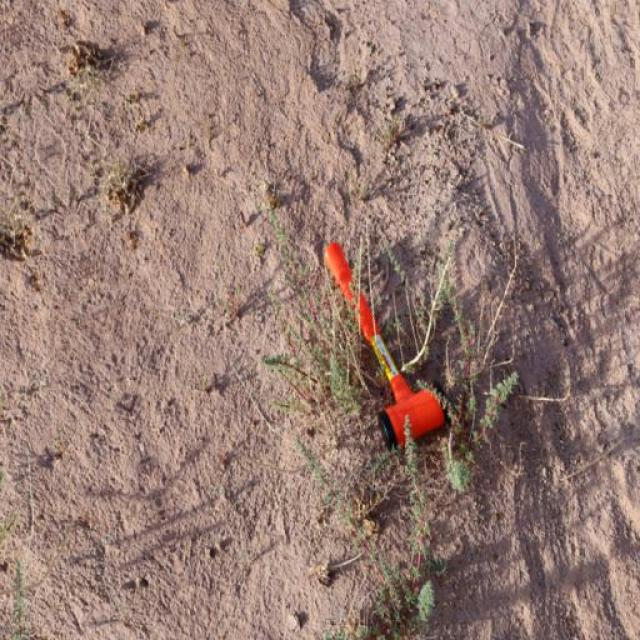mallet: (320, 239, 446, 450)
